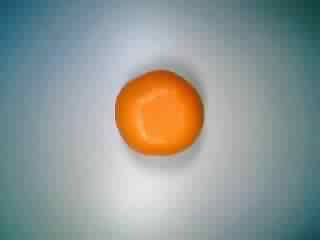orange: (109, 65, 210, 160)
